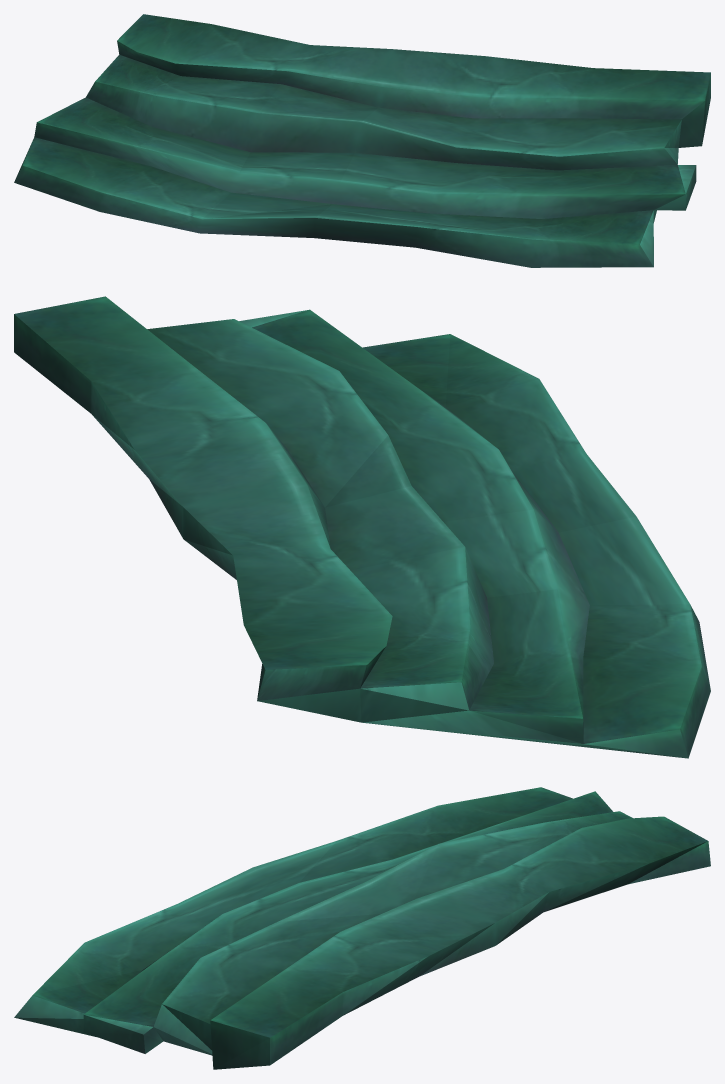
Rendered from M3_T_taijie.FBX.
3 renders of one model, top to bottom at view 1: azimuth 30°, elevation 25°; view 2: azimuth 150°, elevation 25°; view 3: azimuth 270°, elevation 25°, orthographic. The views are drawn at different scales.
Visible parts, largest first — view 1: M3_T_taijie; view 2: M3_T_taijie; view 3: M3_T_taijie.
Part boxes in pixels (x1,y1,x2,y2): M3_T_taijie: (14, 14, 710, 267); M3_T_taijie: (14, 296, 710, 758); M3_T_taijie: (14, 787, 710, 1069).
Bounding box in the file's own units: 862 × 97.31 × 833.
